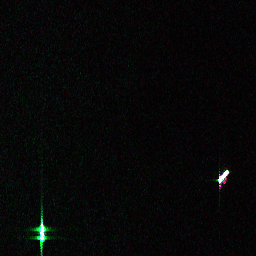ship: (215, 167, 231, 185), (39, 222, 45, 242)
